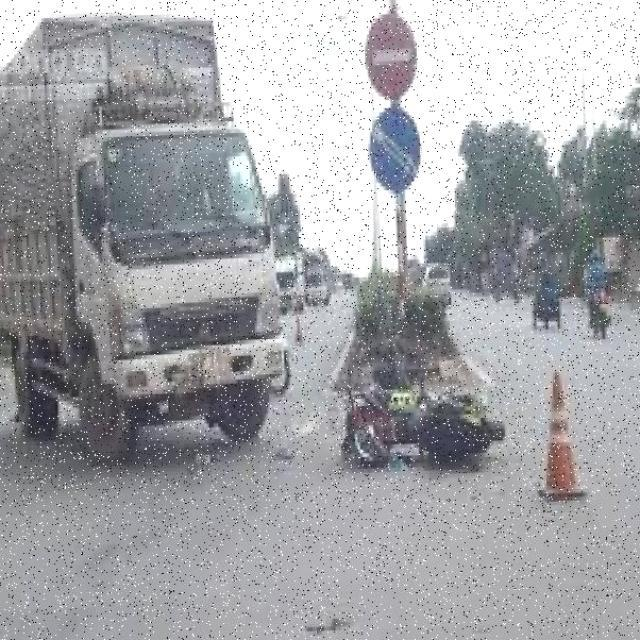accident: (327, 336, 512, 511)
